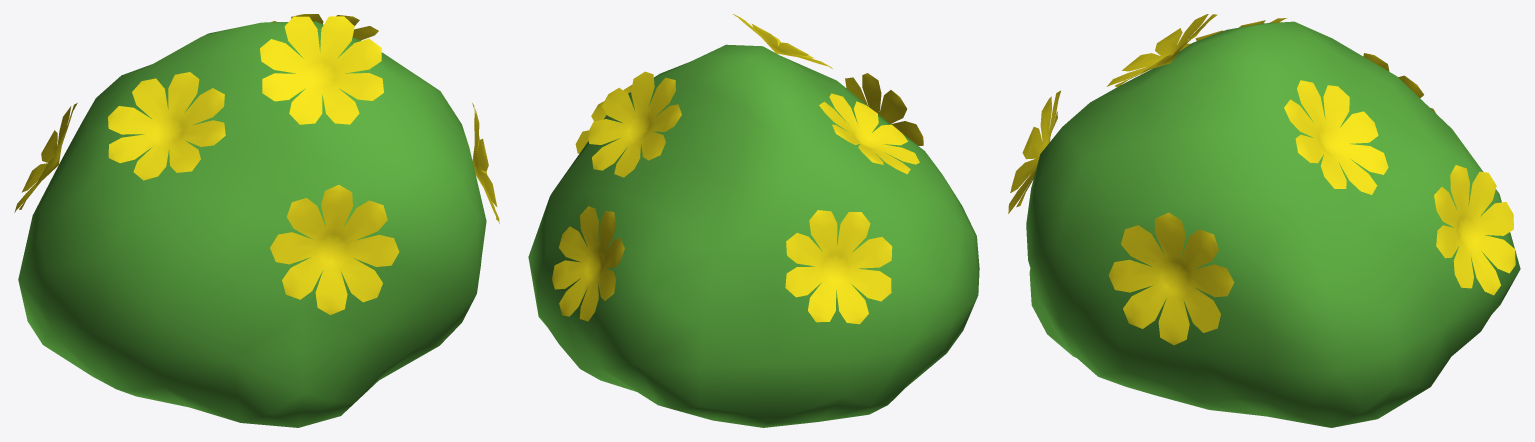
File: Bush.glb
3 views of the same model, side by side, from view 1: azimuth 30°, elevation 25°; view 2: azimuth 150°, elevation 25°; view 3: azimuth 270°, elevation 25° (orthographic). The views are drawn at different scales.
Visible parts, largest first — view 1: Bush; view 2: Bush; view 3: Bush.
Part boxes in pixels (x1,y1,x2,y2): Bush: [14, 14, 499, 427]; Bush: [528, 14, 979, 427]; Bush: [1008, 14, 1520, 427].
Size of the model in its own units: 1.16 by 0.9657 by 1.18.
Materials: 1 (1 with a texture image).
